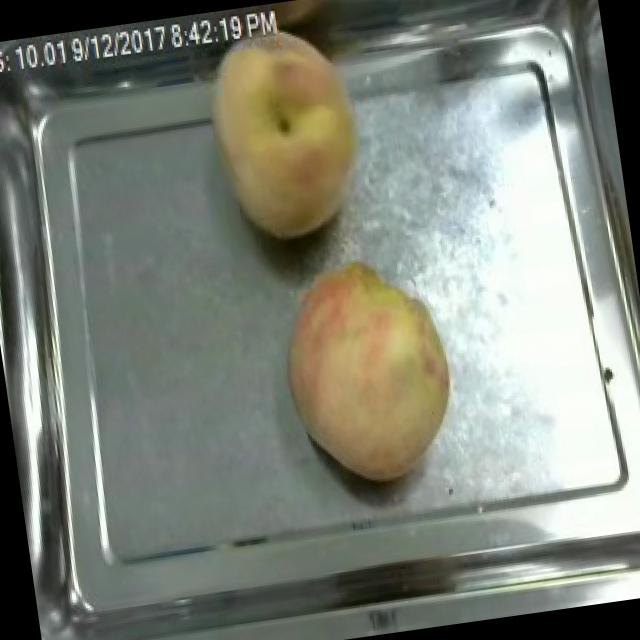Fruit: (265, 247, 475, 498), (190, 3, 382, 256)
